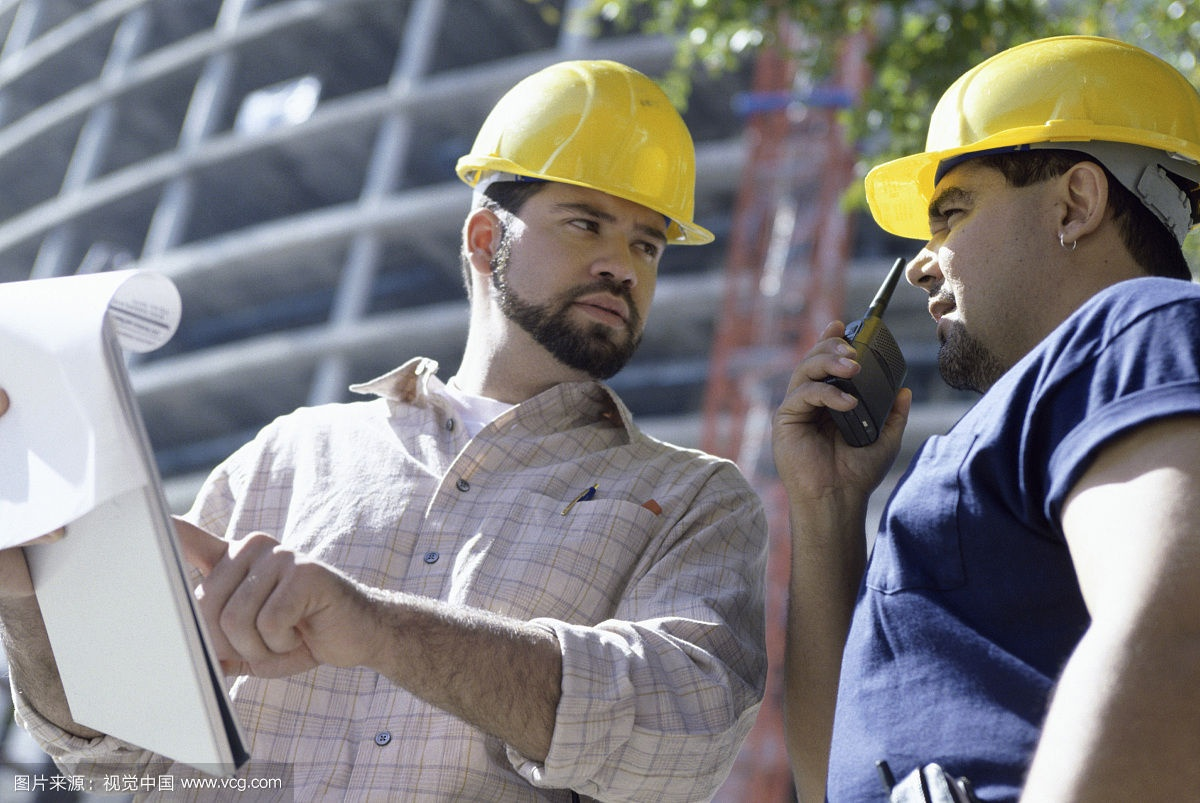yellow: (872, 27, 1200, 397), (447, 58, 712, 377)
